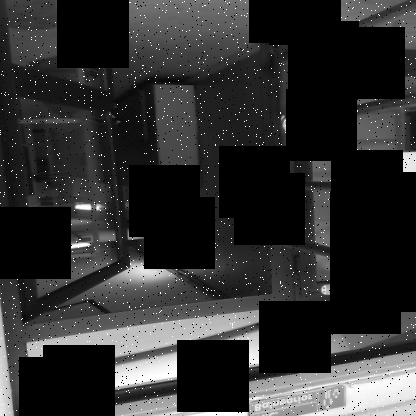Porte: (0, 1, 294, 415)
